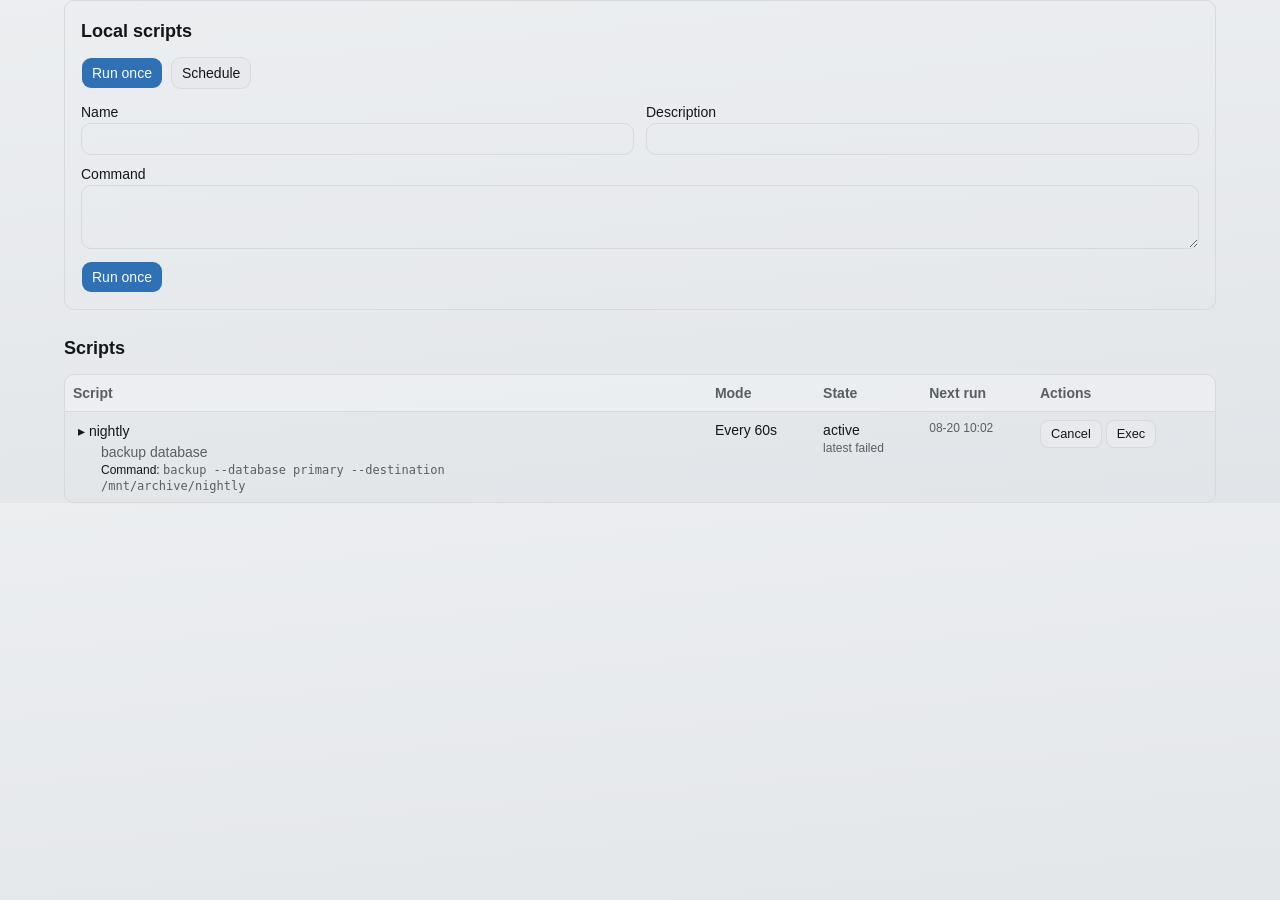
fetches the final log when an expanded active run becomes terminal
Click the button "▸ nightly" at (104, 431), box [73,420,134,442]
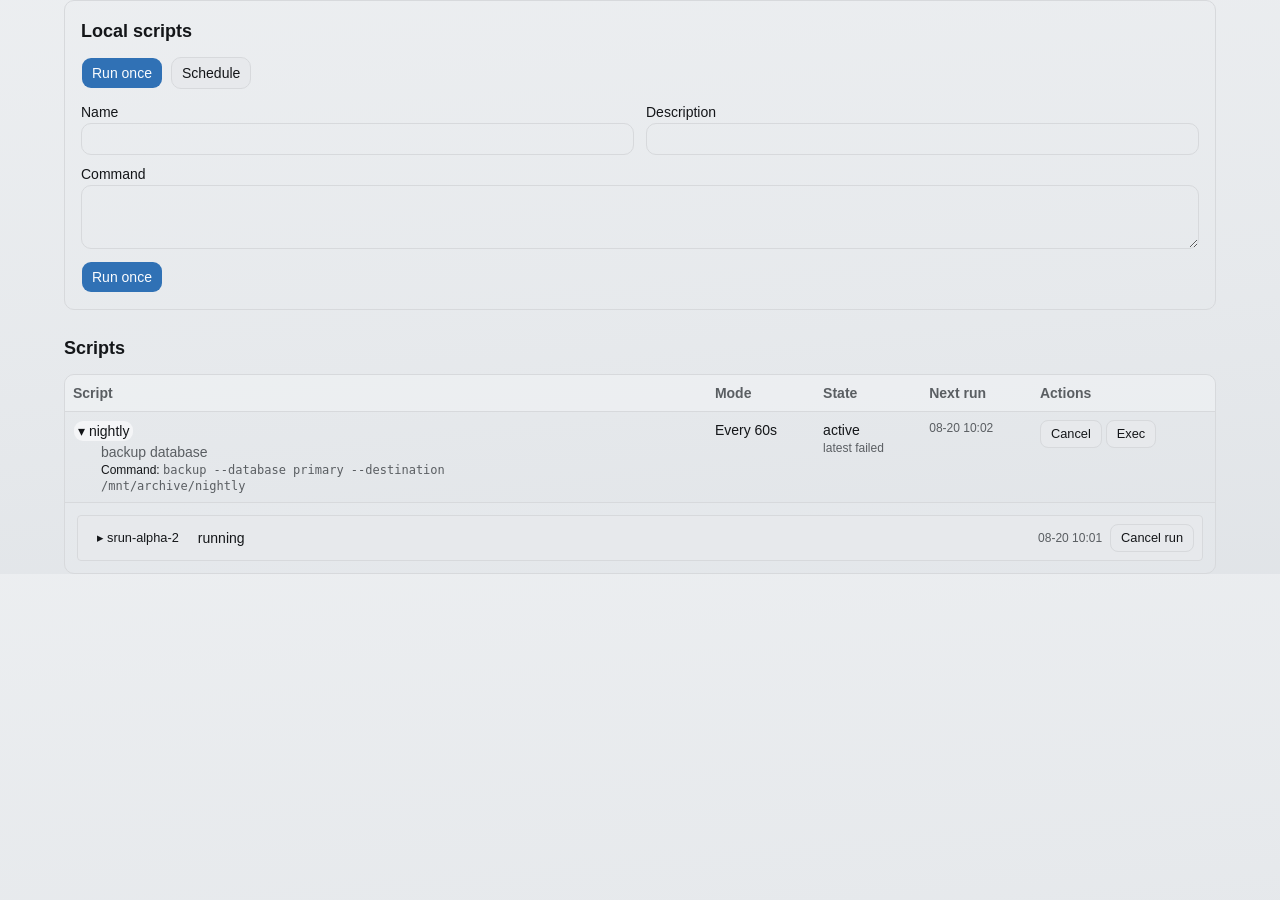
Click the button "▸ srun-alpha-2" at (138, 538), box [86,524,190,552]
Wait 3000 ms
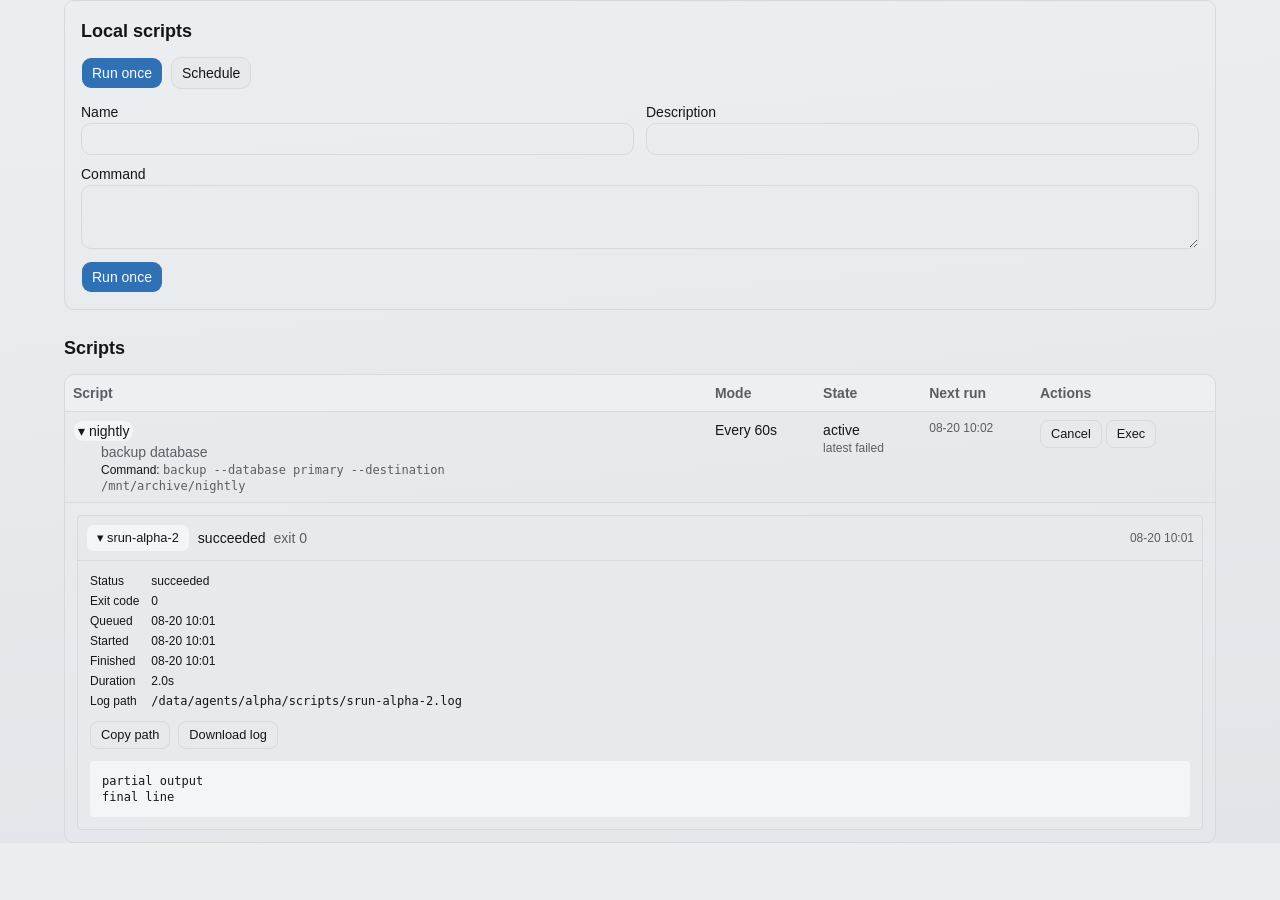
Check: the text "partial output" is shown, box [102,774,203,804]
Check: the text "partial output final line" is shown, box [90,761,1190,817]
